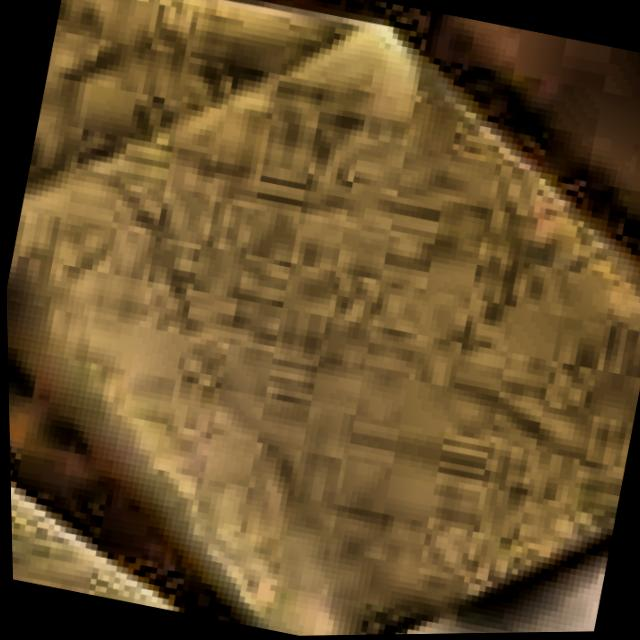paper: (5, 0, 640, 637)
